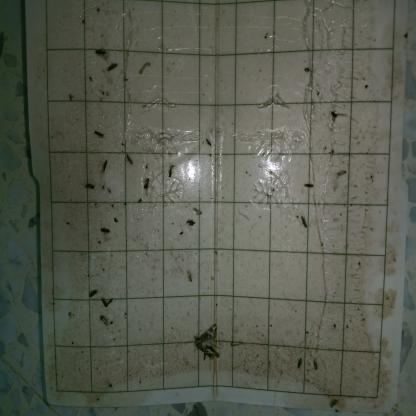prays_oleae: (296, 206, 310, 235), (98, 295, 117, 312), (166, 157, 177, 185), (92, 46, 110, 63), (184, 265, 197, 288), (310, 351, 322, 375), (93, 125, 106, 146), (99, 154, 111, 176), (104, 57, 121, 72), (97, 311, 112, 328), (123, 146, 134, 168), (203, 132, 214, 154), (300, 177, 316, 192), (333, 165, 347, 182), (141, 177, 153, 196), (98, 225, 114, 239), (326, 395, 340, 411), (85, 286, 99, 301), (181, 215, 197, 228), (293, 356, 303, 373), (328, 108, 340, 121), (83, 182, 95, 193)
